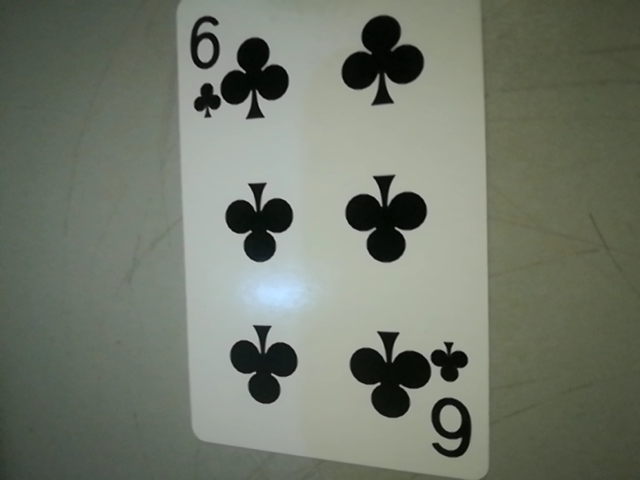mh 6: (423, 337, 484, 471)
